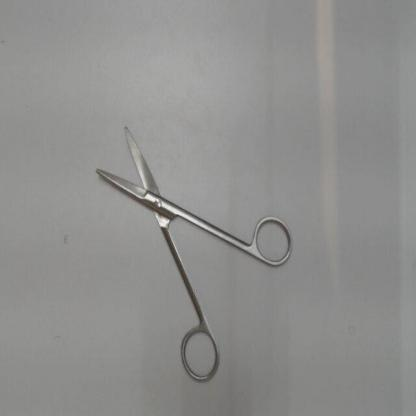Curved Mayo Scissors: (87, 120, 298, 392)
